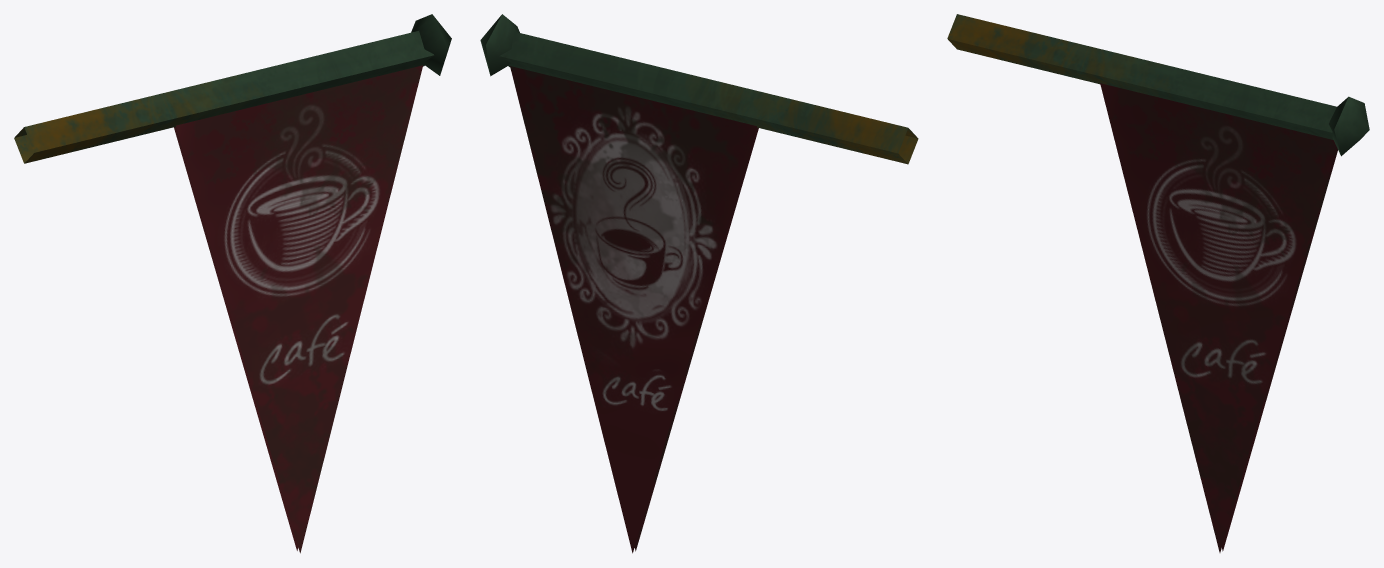
Rendered from SM_wall_flag.FBX.
3 renders of one model, left to right at view 1: azimuth 30°, elevation 25°; view 2: azimuth 150°, elevation 25°; view 3: azimuth 330°, elevation 25°, orthographic. The views are drawn at different scales.
Parts seen in each view (by area): view 1: wall_flag; view 2: wall_flag; view 3: wall_flag.
Boxes of the visible parts, box(x1,y1,x2,y2) form: wall_flag: box(14, 14, 451, 553); wall_flag: box(480, 14, 918, 553); wall_flag: box(947, 14, 1369, 552).
Size of the model in its own units: 35.53 by 4.54 by 40.19.
